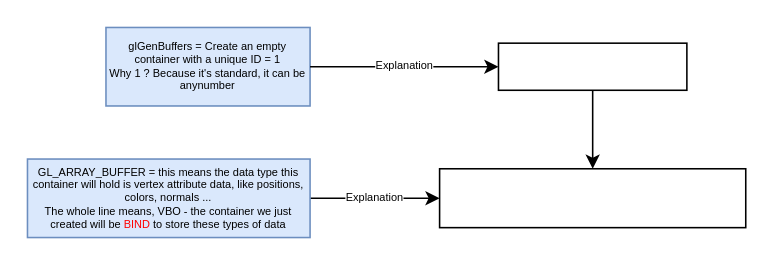
Image size: 774x265. Some labels were removed from this diagram. The centre of each missing label's shape, as x and y in pixels:
gl Bind Buffer( GL_ARRAY_BUFFER , VBO ): the point at 592,197
VBO = glGenBuffers( 1 ): the point at 592,66
